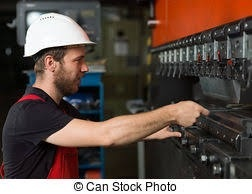helmet: (20, 11, 99, 59)
person with partial safety: (1, 12, 100, 178)
